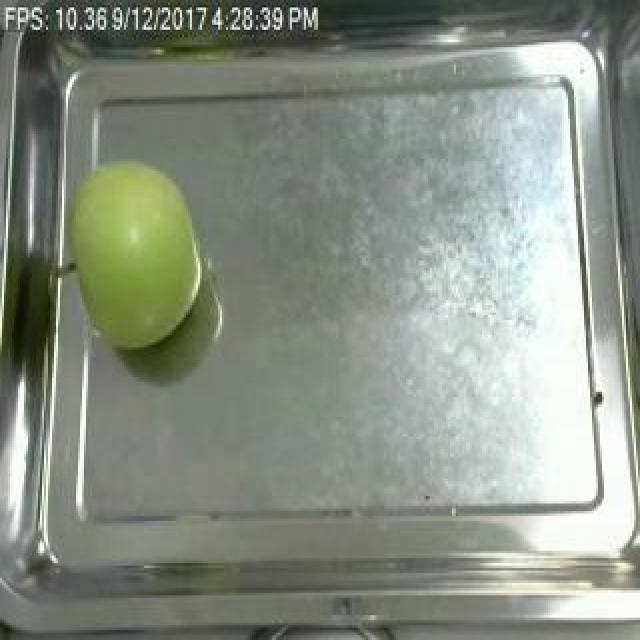Rotten Apple: (59, 158, 213, 351)
